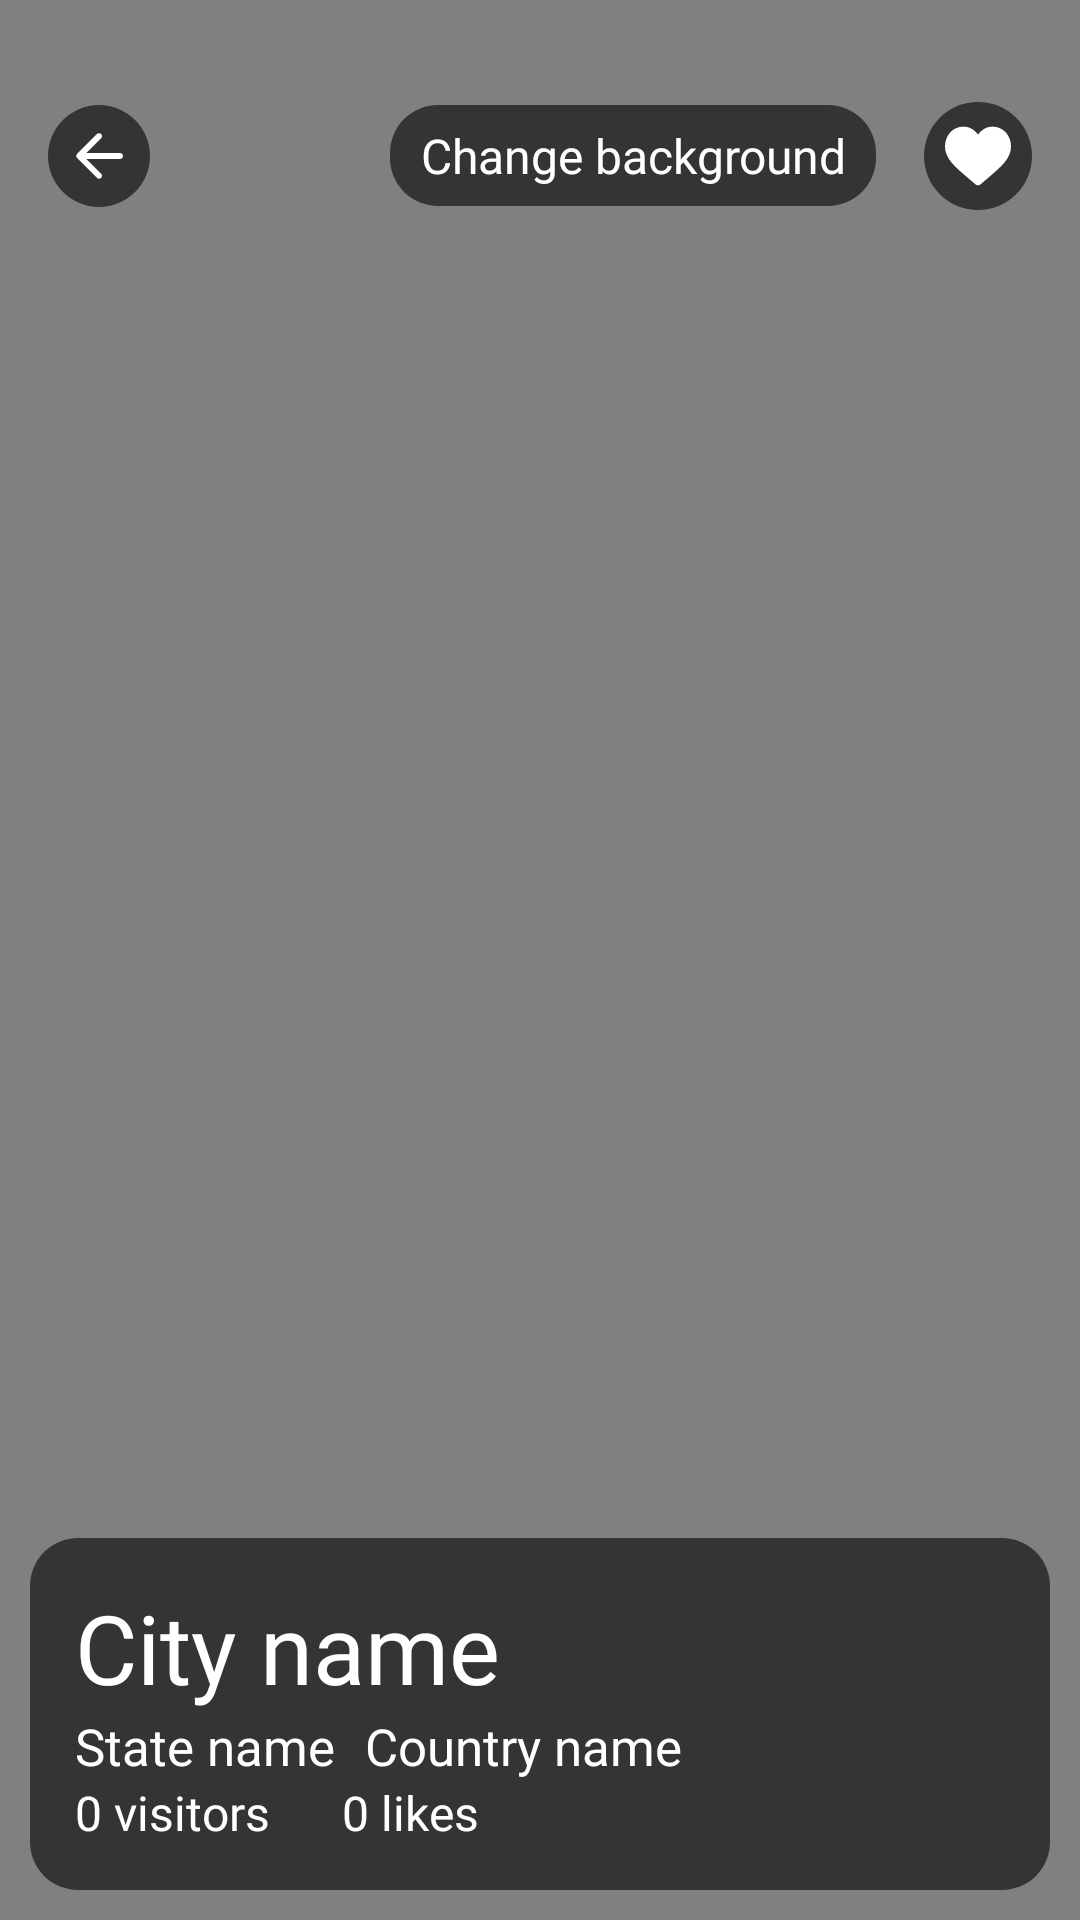

Icon bounding boxes for this 1080 × 1920 phone screenshot, format (x1, y1, x2, y2):
back: (48, 105, 150, 207)
heart: (924, 102, 1032, 210)
